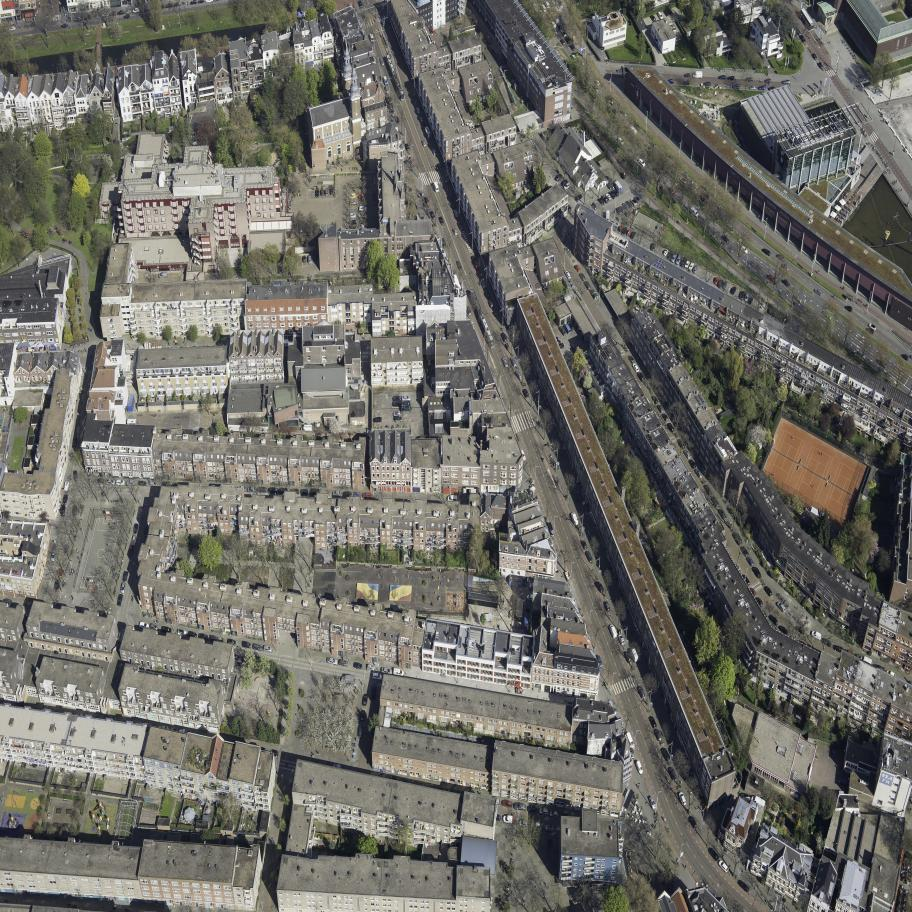large-vehicle: (467, 287, 497, 351), (383, 54, 406, 102), (796, 7, 817, 33)
small-vehicle: (736, 878, 752, 894), (858, 654, 875, 668), (623, 732, 636, 750), (716, 859, 731, 874), (660, 746, 673, 763), (677, 790, 689, 808), (628, 646, 640, 664), (707, 847, 721, 862), (871, 662, 887, 675), (594, 580, 607, 595), (316, 759, 332, 771), (775, 600, 788, 614), (819, 636, 833, 649), (732, 531, 744, 546), (883, 669, 898, 681), (688, 206, 701, 219), (767, 613, 780, 626), (778, 624, 791, 637), (341, 674, 355, 686), (810, 629, 824, 641), (688, 815, 699, 830), (741, 573, 752, 588), (794, 624, 807, 636), (752, 566, 763, 580), (546, 522, 556, 537), (668, 766, 678, 781), (637, 685, 647, 700), (609, 623, 618, 639), (635, 760, 644, 776), (480, 613, 493, 624), (763, 585, 774, 598), (513, 802, 527, 812), (623, 650, 633, 664), (648, 715, 658, 729), (570, 512, 579, 527), (392, 667, 405, 677), (525, 593, 538, 603), (501, 799, 514, 809), (710, 495, 720, 508), (718, 508, 728, 521), (740, 545, 750, 558), (832, 644, 845, 654), (585, 550, 594, 564), (648, 796, 657, 810), (654, 728, 663, 742), (628, 125, 639, 136), (745, 556, 756, 567), (877, 358, 888, 369), (766, 273, 777, 284), (822, 309, 833, 320), (1, 597, 13, 607), (53, 578, 61, 593), (637, 371, 647, 383), (603, 599, 611, 614), (842, 648, 854, 658), (326, 657, 339, 666), (431, 180, 440, 193), (595, 655, 604, 668), (116, 593, 124, 607), (490, 796, 501, 806), (694, 468, 704, 479), (697, 192, 708, 202), (761, 247, 772, 257), (780, 262, 791, 272), (198, 632, 209, 642), (301, 424, 313, 433), (268, 749, 280, 758), (397, 776, 409, 785), (512, 594, 524, 603), (563, 323, 572, 335), (558, 325, 567, 337), (502, 815, 514, 824), (677, 438, 686, 450), (755, 596, 764, 608), (138, 621, 150, 630), (370, 685, 377, 700), (617, 633, 625, 646), (616, 137, 626, 147), (551, 14, 561, 24), (637, 158, 647, 168), (782, 279, 792, 289), (690, 180, 700, 190), (703, 190, 713, 200), (721, 234, 731, 244), (739, 245, 749, 255), (793, 294, 803, 304), (252, 643, 263, 652), (241, 640, 252, 649), (230, 652, 241, 661), (447, 494, 458, 503), (531, 821, 542, 830), (518, 819, 529, 828), (491, 813, 502, 822), (651, 394, 660, 405), (570, 342, 579, 353), (683, 449, 692, 460), (566, 320, 575, 331), (631, 362, 640, 373), (667, 422, 676, 433), (704, 484, 713, 495), (740, 793, 751, 802), (716, 278, 725, 289), (738, 290, 747, 301), (813, 288, 824, 297), (162, 626, 173, 635), (187, 630, 198, 639), (209, 635, 220, 644), (357, 724, 364, 738), (143, 523, 150, 537), (332, 763, 344, 771), (381, 667, 393, 675), (59, 504, 66, 517), (549, 20, 558, 30), (556, 342, 566, 351), (562, 182, 572, 191), (559, 178, 569, 187), (554, 172, 563, 182), (574, 193, 584, 202), (594, 161, 603, 171), (689, 185, 698, 195), (776, 253, 786, 262), (900, 352, 910, 361), (844, 304, 854, 313), (857, 350, 867, 359), (177, 628, 187, 637), (401, 405, 412, 413), (372, 672, 383, 680), (392, 400, 403, 408), (439, 237, 447, 248), (549, 810, 560, 818), (527, 806, 538, 814), (670, 252, 678, 263), (226, 638, 237, 646), (692, 71, 703, 79), (689, 459, 697, 470), (71, 506, 78, 518), (362, 693, 368, 707), (473, 259, 480, 271), (831, 744, 837, 758), (122, 571, 129, 583), (632, 123, 641, 132), (564, 202, 573, 211), (619, 108, 628, 117), (661, 413, 670, 422), (627, 355, 636, 364), (653, 166, 662, 175), (597, 197, 606, 206), (622, 202, 631, 211), (618, 205, 627, 214), (868, 322, 877, 331), (106, 478, 116, 486), (310, 488, 320, 496), (299, 488, 309, 496), (263, 645, 273, 653), (353, 662, 363, 670), (387, 774, 397, 782), (539, 808, 549, 816), (545, 824, 555, 832), (570, 53, 578, 63), (675, 255, 683, 265), (609, 190, 617, 200), (601, 194, 609, 204), (579, 272, 587, 282), (749, 587, 757, 597), (149, 623, 159, 631), (360, 709, 366, 722), (62, 494, 69, 505), (256, 486, 267, 493), (158, 725, 169, 732), (510, 356, 517, 367), (502, 357, 509, 368), (501, 332, 508, 343), (456, 260, 463, 271), (480, 278, 487, 289), (484, 288, 491, 299), (50, 550, 56, 562), (564, 270, 572, 279), (656, 11, 664, 20), (866, 327, 875, 335), (657, 404, 665, 413), (670, 168, 678, 177), (584, 281, 592, 290), (574, 264, 582, 273), (612, 188, 620, 197), (682, 171, 690, 180), (730, 286, 738, 295), (747, 296, 755, 305), (799, 34, 807, 43), (133, 523, 139, 535), (131, 534, 137, 546), (128, 545, 134, 557), (120, 582, 126, 594), (57, 568, 64, 578), (289, 488, 299, 495), (278, 487, 288, 494), (268, 487, 278, 494), (236, 485, 246, 492), (342, 491, 352, 498), (446, 787, 456, 794), (433, 785, 443, 792), (420, 782, 430, 789), (515, 370, 522, 380), (513, 434, 520, 444), (581, 540, 588, 550), (339, 660, 349, 667), (688, 262, 695, 272), (722, 280, 729, 290), (744, 292, 751, 302), (795, 27, 802, 37), (115, 479, 125, 486), (158, 272, 168, 279), (63, 544, 69, 555), (369, 33, 375, 44), (564, 36, 572, 44), (592, 84, 600, 92), (668, 187, 676, 195), (630, 198, 638, 206), (590, 202, 598, 210), (649, 140, 657, 148), (96, 477, 105, 484), (332, 490, 341, 497), (247, 486, 256, 493), (402, 395, 411, 402), (362, 492, 371, 499), (540, 4, 547, 13), (438, 216, 445, 225), (544, 1, 551, 10), (523, 389, 530, 398), (487, 300, 494, 309), (453, 209, 460, 218), (650, 14, 657, 23), (684, 260, 691, 269), (626, 228, 633, 237), (650, 242, 657, 251), (630, 230, 637, 239), (680, 258, 687, 267), (556, 23, 563, 32), (626, 200, 633, 209), (692, 265, 699, 274), (713, 276, 720, 285), (817, 61, 824, 70), (138, 480, 147, 487), (170, 727, 179, 734), (72, 16, 82, 22), (430, 210, 436, 220), (466, 306, 472, 316), (379, 58, 386, 66), (367, 664, 375, 671), (667, 8, 674, 16), (663, 9, 670, 17), (574, 51, 581, 59), (608, 94, 615, 102), (611, 107, 618, 115), (634, 195, 641, 203), (616, 207, 623, 215), (811, 53, 818, 61), (132, 7, 140, 14), (72, 436, 77, 447), (73, 470, 78, 481), (373, 417, 382, 423), (424, 196, 430, 205), (458, 222, 464, 231), (666, 78, 675, 84), (622, 226, 628, 235), (663, 248, 669, 257), (782, 79, 791, 85), (126, 480, 135, 486), (383, 76, 388, 86), (429, 28, 436, 35), (594, 79, 601, 86), (605, 193, 612, 200), (381, 2, 387, 10), (361, 13, 367, 21), (431, 147, 437, 155), (421, 139, 427, 147), (394, 116, 400, 124), (393, 411, 401, 417), (395, 416, 403, 422), (448, 193, 454, 201), (452, 228, 458, 236), (471, 256, 477, 264), (618, 224, 624, 232), (165, 3, 173, 9), (410, 156, 415, 165), (718, 75, 727, 80), (451, 202, 457, 209), (358, 193, 365, 199), (349, 193, 356, 199), (561, 30, 567, 37), (560, 38, 566, 45), (570, 44, 576, 51), (579, 59, 585, 66), (683, 80, 690, 86), (173, 2, 180, 8), (101, 12, 109, 17), (60, 23, 68, 28), (59, 4, 64, 12), (308, 254, 312, 264), (381, 19, 386, 27), (416, 106, 421, 114), (419, 115, 424, 123), (405, 143, 410, 151), (403, 401, 411, 406), (358, 0, 363, 8), (353, 492, 361, 497), (437, 162, 442, 170), (359, 206, 367, 211), (358, 212, 366, 217), (505, 343, 510, 351), (733, 84, 741, 89), (727, 76, 735, 81), (703, 82, 711, 87), (745, 77, 753, 82), (758, 86, 766, 91), (117, 10, 125, 15), (123, 14, 131, 19), (316, 189, 320, 198), (84, 15, 91, 20), (393, 396, 400, 401), (349, 213, 356, 218), (349, 200, 356, 205), (350, 220, 357, 225), (769, 86, 776, 91), (765, 79, 772, 84), (109, 11, 116, 16), (9, 26, 16, 31), (684, 73, 691, 78), (749, 85, 756, 90), (125, 9, 131, 14), (303, 255, 306, 263), (325, 189, 328, 196), (321, 189, 324, 196), (330, 188, 333, 195)
